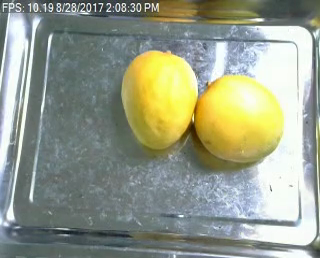Mango: (195, 73, 286, 161), (121, 49, 198, 148)
